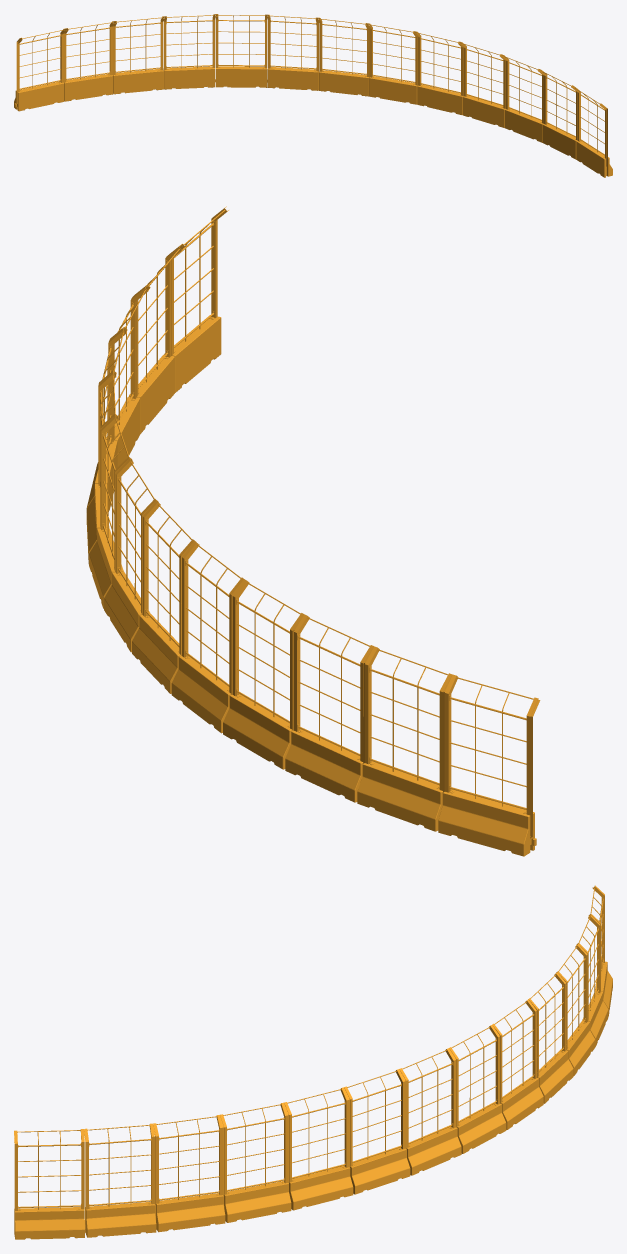
Rendered from SM_Fence_Road_Debrisguard_Bar_20m_Corner_Outer.fbx.
The picture shows the model from 3 angles, top to bottom: view 1: azimuth 30°, elevation 25°; view 2: azimuth 150°, elevation 25°; view 3: azimuth 270°, elevation 25°; orthographic projection. The views are drawn at different scales.
Parts seen in each view (by area): view 1: SM_Fence_Road_Debrisguard_Bar_20m_Corner_Outer; view 2: SM_Fence_Road_Debrisguard_Bar_20m_Corner_Outer; view 3: SM_Fence_Road_Debrisguard_Bar_20m_Corner_Outer.
Part boxes in pixels (x1,y1,x2,y2): SM_Fence_Road_Debrisguard_Bar_20m_Corner_Outer: (14, 14, 612, 177); SM_Fence_Road_Debrisguard_Bar_20m_Corner_Outer: (86, 206, 540, 856); SM_Fence_Road_Debrisguard_Bar_20m_Corner_Outer: (14, 885, 612, 1239).
Size of the model in its own units: 21.48 by 4 by 21.38.
